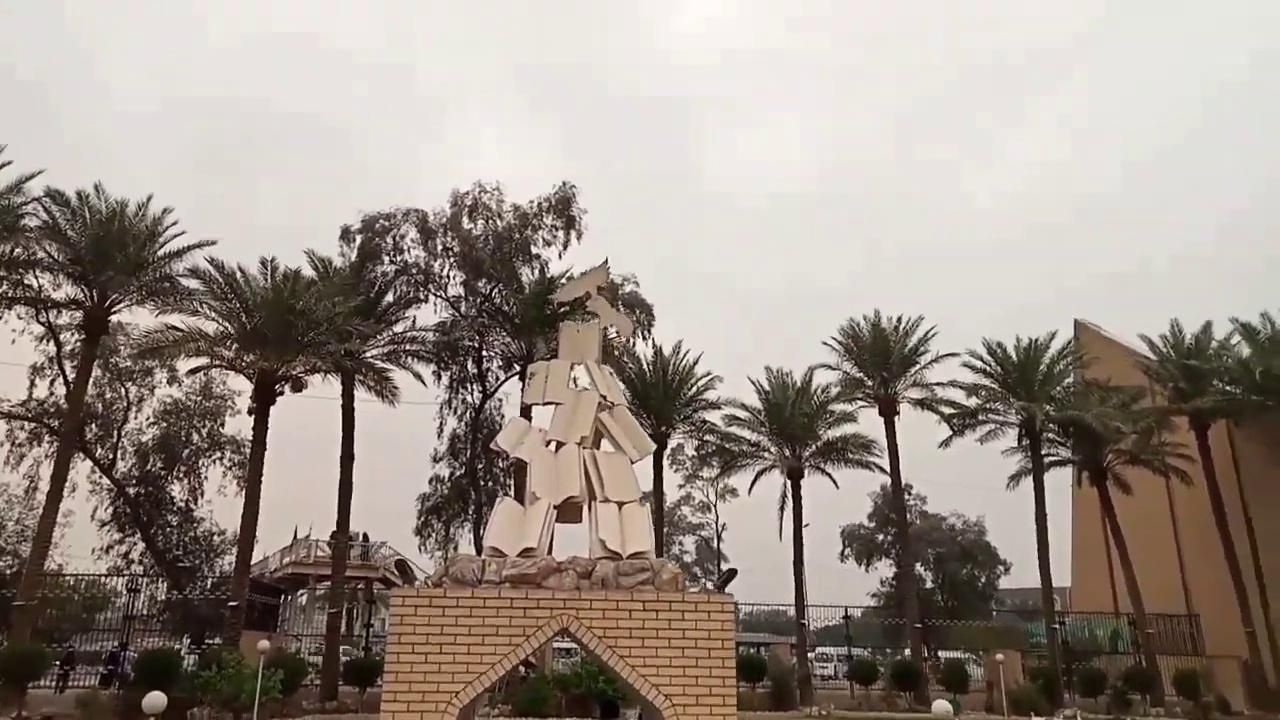person: (113, 641, 136, 694), (52, 645, 76, 695), (102, 642, 121, 691)
tree: (336, 176, 655, 567), (0, 162, 218, 714), (129, 251, 357, 651), (294, 245, 432, 704), (936, 327, 1098, 708), (1011, 375, 1195, 707), (712, 363, 888, 706), (811, 307, 962, 702), (838, 479, 1011, 703), (606, 338, 724, 559), (1211, 308, 1279, 687), (665, 425, 743, 589), (0, 638, 55, 718), (262, 645, 308, 715), (340, 652, 383, 712), (1118, 662, 1159, 710), (887, 655, 924, 708), (937, 657, 970, 713), (1170, 664, 1204, 715), (843, 656, 881, 698), (736, 648, 767, 691), (1075, 663, 1107, 703)
